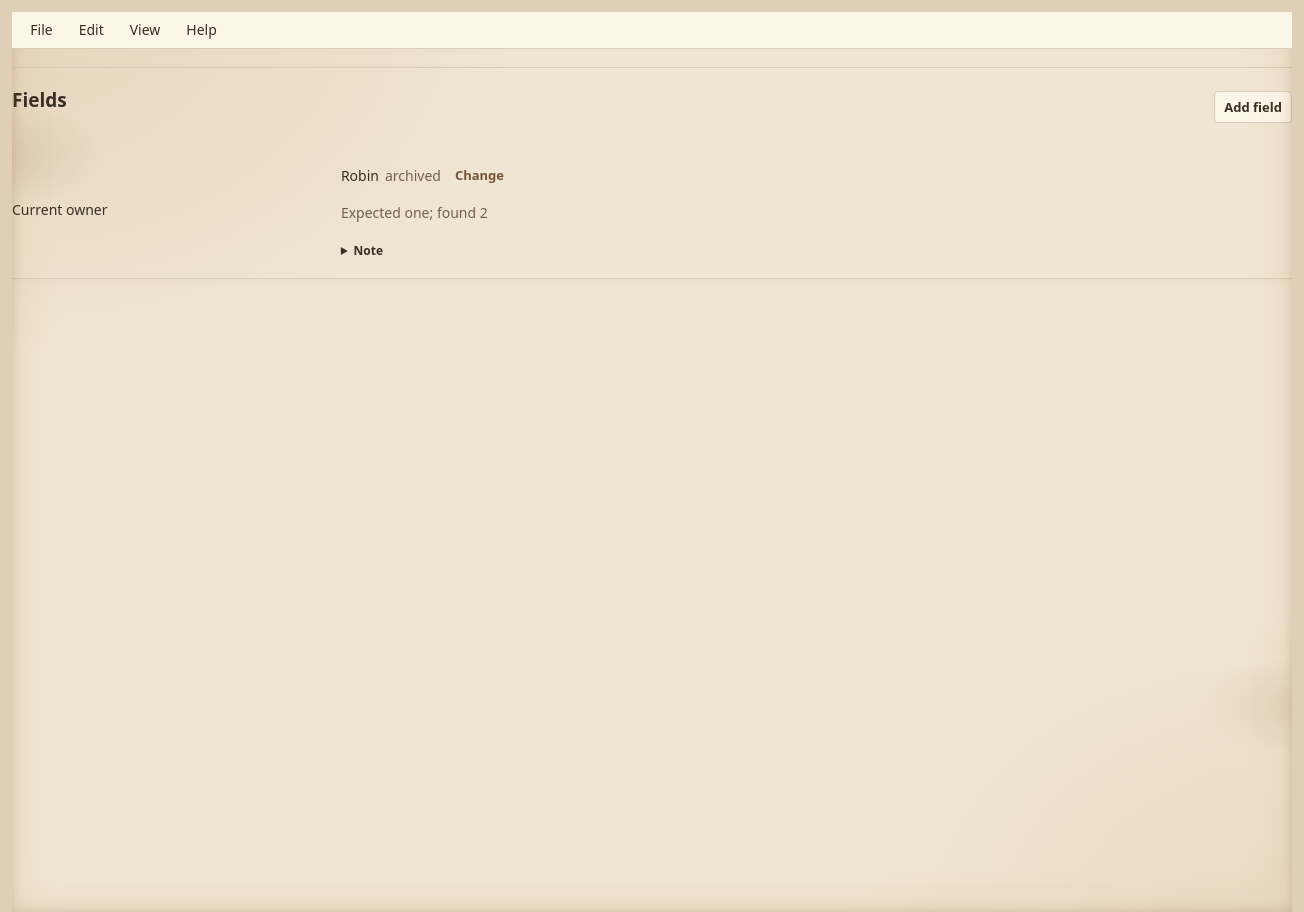
Test: shows canonical notes, warnings and inactive participants without a scalar input
Expected: the text "Robin" is shown, x1=341 y1=165 x2=379 y2=186
Expected: the text "archived" is shown, x1=385 y1=165 x2=441 y2=186
Click the heading "Note": (368, 251) x1=354 y1=242 x2=383 y2=259
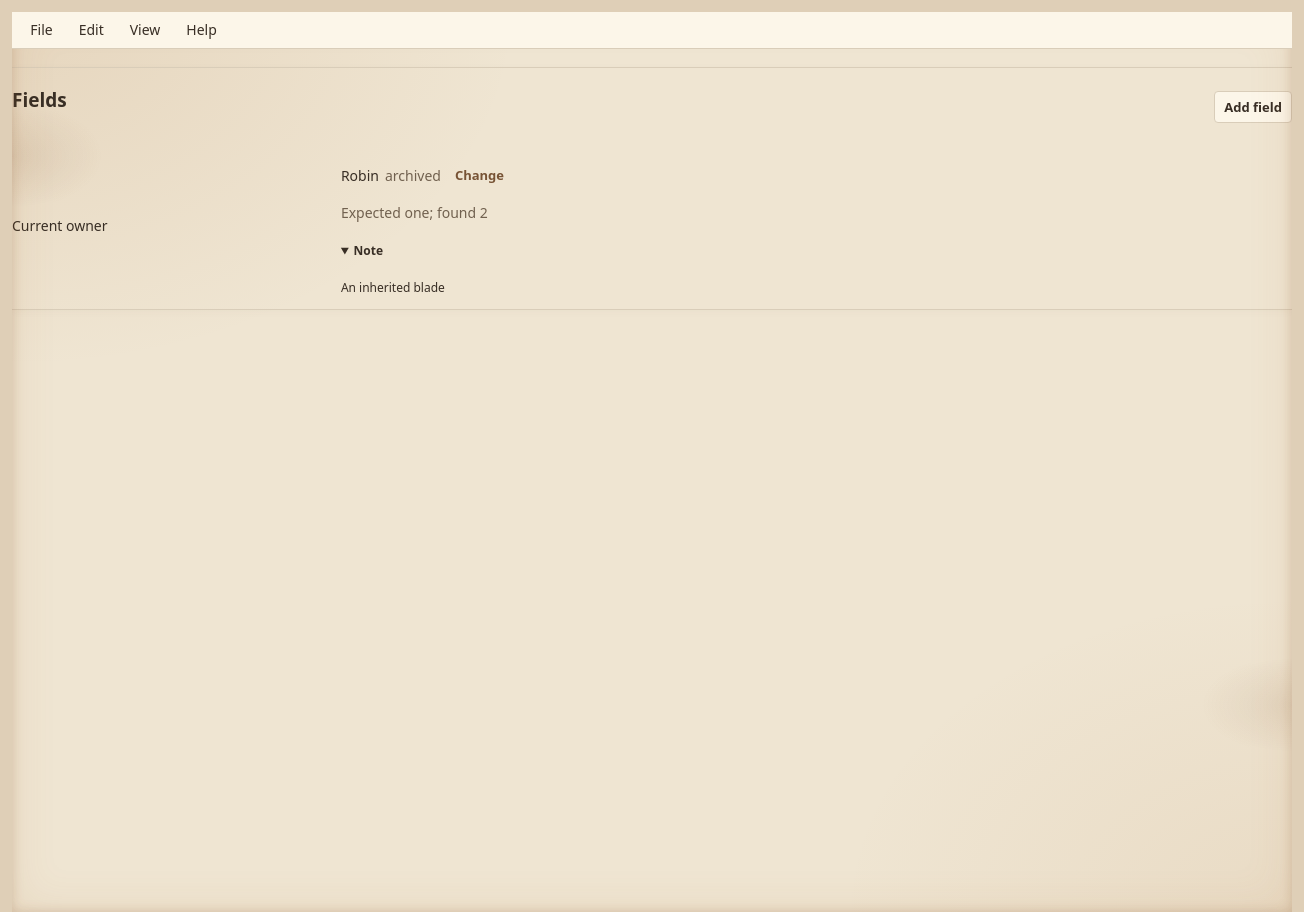
Result: the text "An inherited blade" is shown at x1=341 y1=279 x2=445 y2=296
